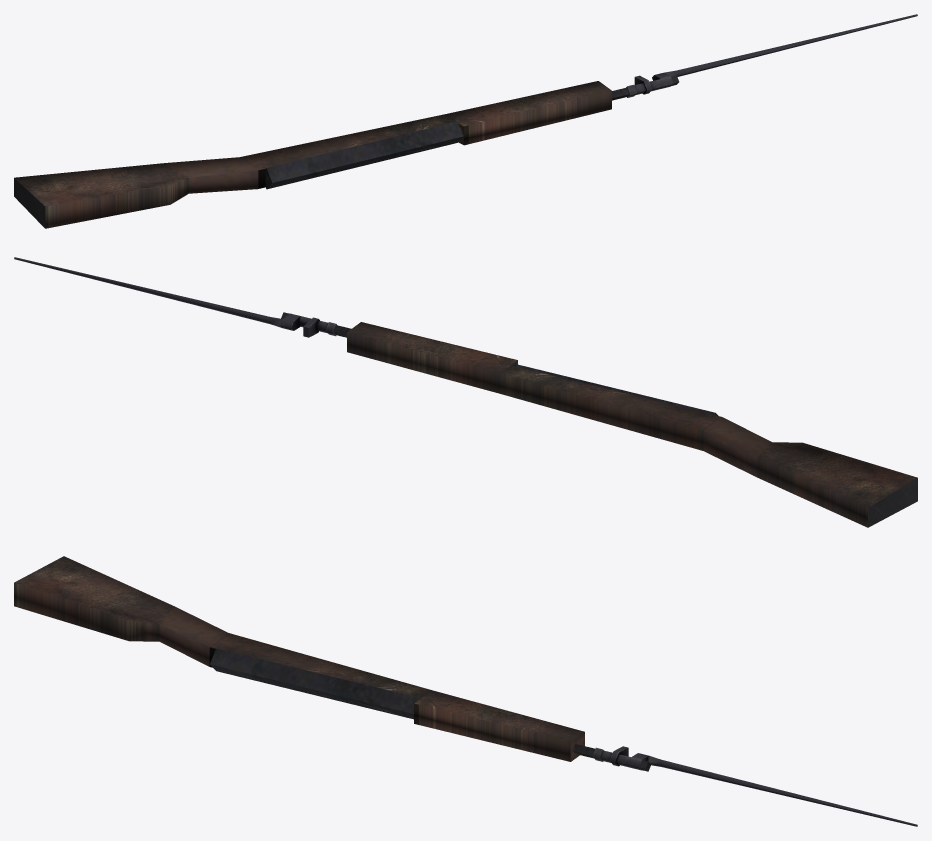
Rendered from weapon_rus_mosin_rifle_bayonet_LOD21.obj.
The picture shows the model from 3 angles, top to bottom: view 1: azimuth 30°, elevation 25°; view 2: azimuth 150°, elevation 25°; view 3: azimuth 330°, elevation 25°; orthographic projection. The views are drawn at different scales.
Parts seen in each view (by area): view 1: TomGroup_2, TomGroup_0, TomGroup_1; view 2: TomGroup_2, TomGroup_1, TomGroup_0; view 3: TomGroup_2, TomGroup_0, TomGroup_1.
Part boxes in pixels (left/top/right/bottom): TomGroup_2: left=14, top=81, right=611, bottom=228; TomGroup_0: left=14, top=75, right=679, bottom=228; TomGroup_1: left=626, top=14, right=917, bottom=97; TomGroup_2: left=347, top=322, right=917, bottom=527; TomGroup_1: left=14, top=257, right=336, bottom=337; TomGroup_0: left=281, top=312, right=917, bottom=527; TomGroup_2: left=14, top=556, right=584, bottom=761; TomGroup_0: left=210, top=648, right=650, bottom=771; TomGroup_1: left=592, top=746, right=917, bottom=826.
Bounding box in the file's own units: 178 × 4.4 × 21.69.
Materials: 2 (2 with a texture image).
